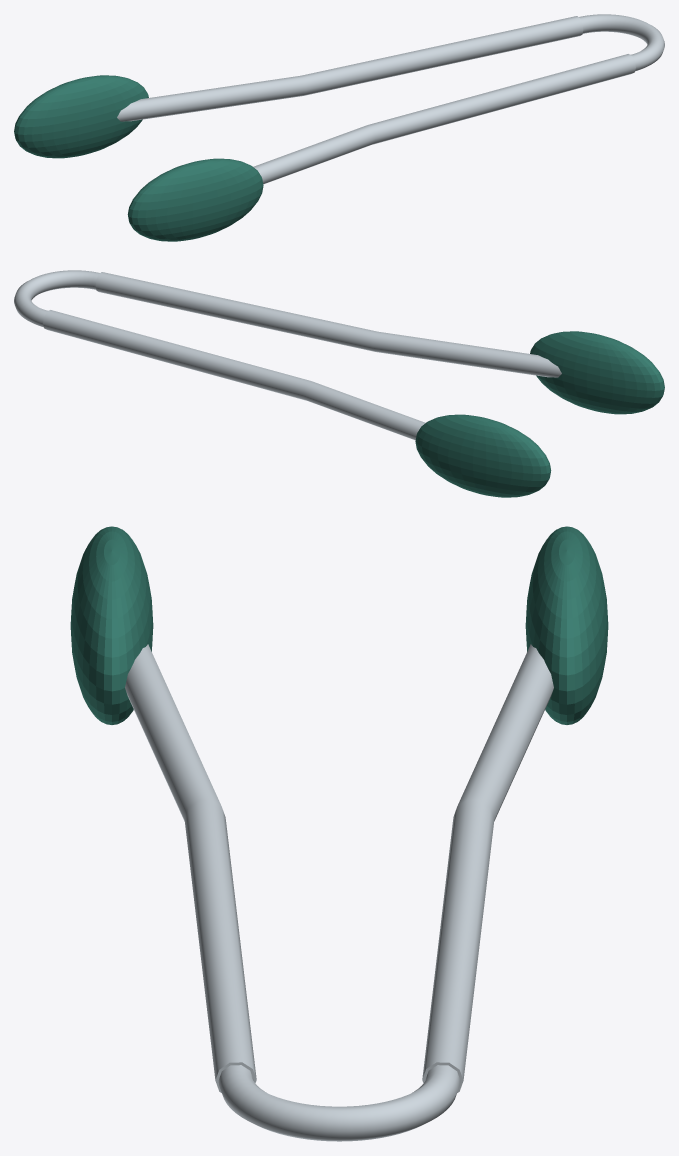
File: Tongs.glb
3 renders of one model, top to bottom at view 1: azimuth 30°, elevation 25°; view 2: azimuth 150°, elevation 25°; view 3: azimuth 270°, elevation 25°, orthographic. The views are drawn at different scales.
Parts seen in each view (by area): view 1: Arm.001, Silicone tip, Arm, Silicone tip.001, Spring bow; view 2: Arm, Silicone tip.001, Arm.001, Silicone tip, Spring bow; view 3: Arm, Arm.001, Silicone tip, Silicone tip.001, Spring bow.
Part boxes in pixels (left/top/right/bottom): Arm.001: left=117, top=16, right=583, bottom=121; Silicone tip: left=127, top=158, right=263, bottom=241; Arm: left=253, top=54, right=635, bottom=184; Silicone tip.001: left=14, top=75, right=148, bottom=158; Spring bow: left=579, top=14, right=664, bottom=71; Arm: left=95, top=272, right=561, bottom=377; Silicone tip.001: left=415, top=414, right=551, bottom=497; Arm.001: left=43, top=310, right=425, bottom=440; Silicone tip: left=530, top=331, right=664, bottom=414; Spring bow: left=14, top=270, right=99, bottom=327; Arm: left=125, top=644, right=256, bottom=1092; Arm.001: left=422, top=644, right=553, bottom=1092; Silicone tip: left=70, top=526, right=153, bottom=724; Silicone tip.001: left=525, top=526, right=608, bottom=724; Spring bow: left=218, top=1065, right=460, bottom=1141.
Bounding box in the file's own units: 0.2614 × 0.032 × 0.104.
